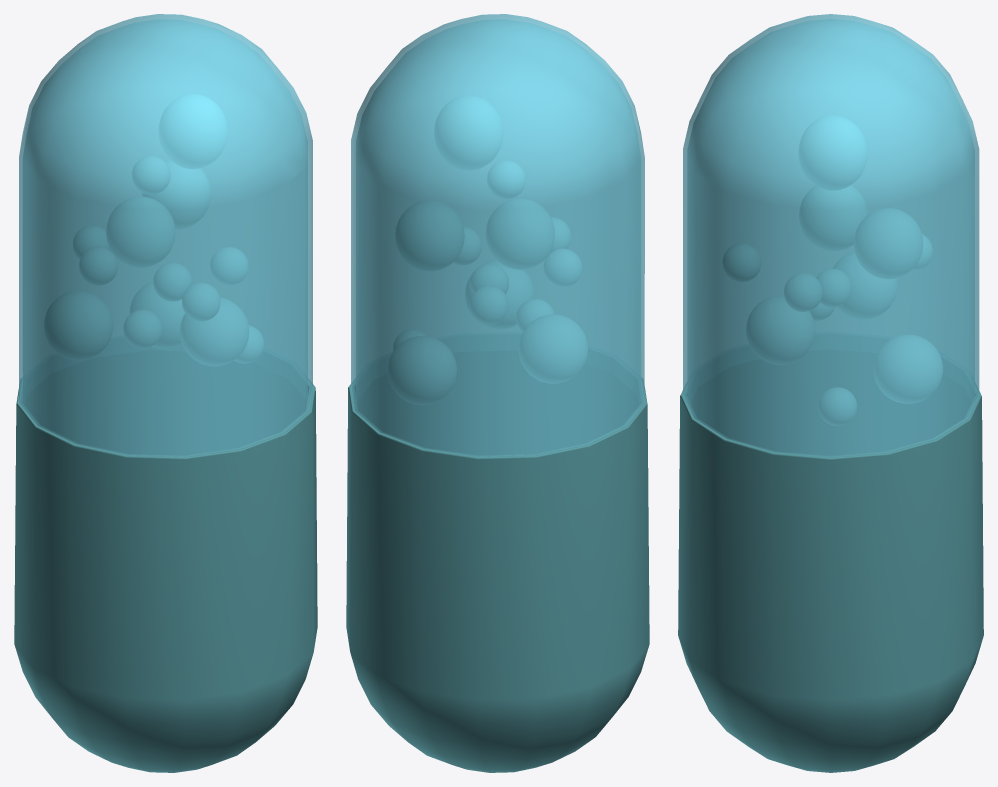
Rendered from water-pill.glb.
3 renders of one model, left to right at view 1: azimuth 30°, elevation 25°; view 2: azimuth 150°, elevation 25°; view 3: azimuth 270°, elevation 25°, orthographic.
Parts seen in each view (by area): view 1: polySurface3_2.001, polySurface3_1.001, Sphere.002, Sphere.003, Sphere.004, Sphere, Sphere.005, Sphere.001, Sphere.011, Sphere.008, Sphere.013, Sphere.009 (+4 smaller); view 2: polySurface3_2.001, polySurface3_1.001, Sphere.002, Sphere.005, Sphere.003, Sphere.001, Sphere.004, Sphere, Sphere.010, Sphere.006, Sphere.013, Sphere.007 (+2 smaller); view 3: polySurface3_2.001, polySurface3_1.001, Sphere.002, Sphere.005, Sphere.001, Sphere, Sphere.003, Sphere.004, Sphere.012, Sphere.009, Sphere.008, Sphere.007.
Boxes of the visible parts, x1=… form: polySurface3_2.001: x1=19, y1=14, x2=312, y2=456; polySurface3_1.001: x1=14, y1=350, x2=317, y2=772; Sphere.002: x1=159, y1=94, x2=227, y2=168; Sphere.003: x1=106, y1=197, x2=174, y2=267; Sphere.004: x1=44, y1=291, x2=112, y2=359; Sphere: x1=180, y1=298, x2=248, y2=365; Sphere.005: x1=142, y1=159, x2=210, y2=228; Sphere.001: x1=130, y1=282, x2=184, y2=347; Sphere.011: x1=124, y1=310, x2=161, y2=347; Sphere.008: x1=210, y1=247, x2=247, y2=285; Sphere.013: x1=132, y1=156, x2=169, y2=193; Sphere.009: x1=182, y1=283, x2=219, y2=320; polySurface3_2.001: x1=351, y1=14, x2=644, y2=456; polySurface3_1.001: x1=346, y1=350, x2=649, y2=772; Sphere.002: x1=434, y1=96, x2=502, y2=169; Sphere.005: x1=396, y1=201, x2=463, y2=270; Sphere.003: x1=486, y1=199, x2=554, y2=269; Sphere.001: x1=388, y1=336, x2=456, y2=404; Sphere.004: x1=519, y1=315, x2=587, y2=383; Sphere: x1=465, y1=260, x2=533, y2=328; Sphere.010: x1=544, y1=249, x2=581, y2=286; Sphere.006: x1=470, y1=286, x2=507, y2=323; Sphere.013: x1=487, y1=161, x2=525, y2=198; Sphere.007: x1=471, y1=264, x2=508, y2=293; polySurface3_2.001: x1=683, y1=14, x2=979, y2=457; polySurface3_1.001: x1=678, y1=349, x2=983, y2=772; Sphere.002: x1=799, y1=116, x2=866, y2=189; Sphere.005: x1=854, y1=208, x2=922, y2=278; Sphere.001: x1=874, y1=335, x2=942, y2=403; Sphere: x1=746, y1=296, x2=814, y2=364; Sphere.003: x1=799, y1=186, x2=867, y2=250; Sphere.004: x1=833, y1=252, x2=896, y2=319; Sphere.012: x1=819, y1=388, x2=856, y2=425; Sphere.009: x1=723, y1=244, x2=760, y2=281; Sphere.008: x1=784, y1=273, x2=821, y2=311; Sphere.007: x1=816, y1=269, x2=851, y2=306.
Bounding box in the file's own units: 0.0641 × 0.169 × 0.0641.
